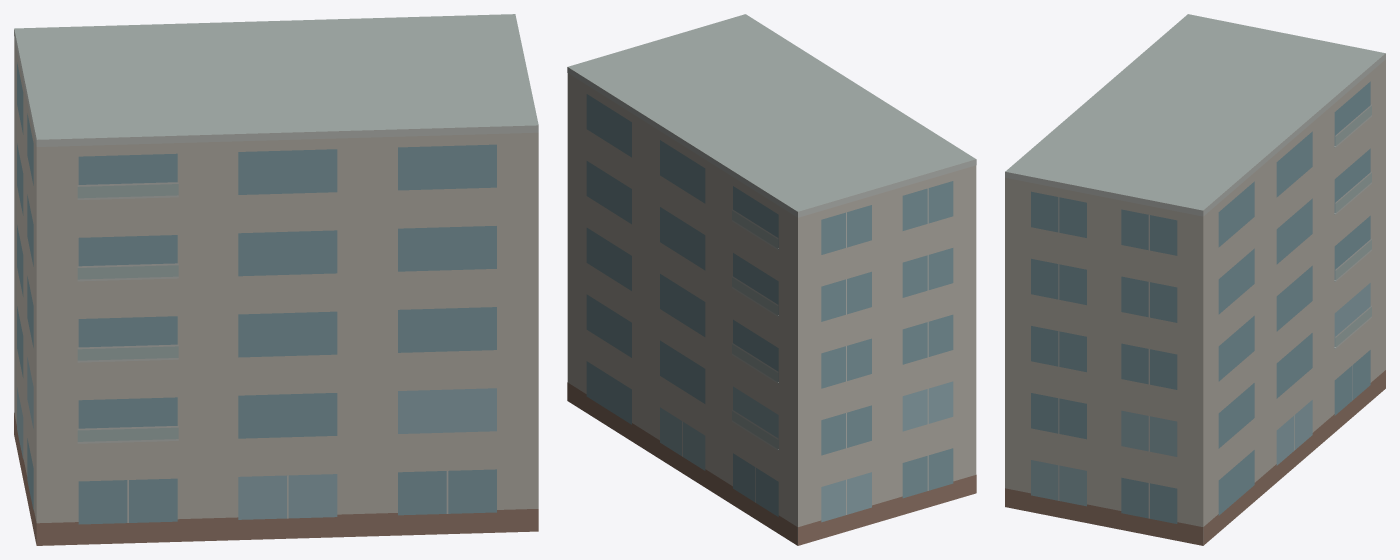
The model's file is survey-upis-32888309.glb.
3 renders of one model, left to right at view 1: azimuth 30°, elevation 25°; view 2: azimuth 150°, elevation 25°; view 3: azimuth 270°, elevation 25°, orthographic. The views are drawn at different scales.
Visible parts, largest first — view 1: survey-upis-32888309.tmp; view 2: survey-upis-32888309.tmp; view 3: survey-upis-32888309.tmp.
Part boxes in pixels (left/top/right/bottom): survey-upis-32888309.tmp: left=14, top=14, right=538, bottom=545; survey-upis-32888309.tmp: left=567, top=14, right=976, bottom=545; survey-upis-32888309.tmp: left=1005, top=14, right=1385, bottom=545.
Size of the model in its own units: 17.11 by 13.6 by 14.
